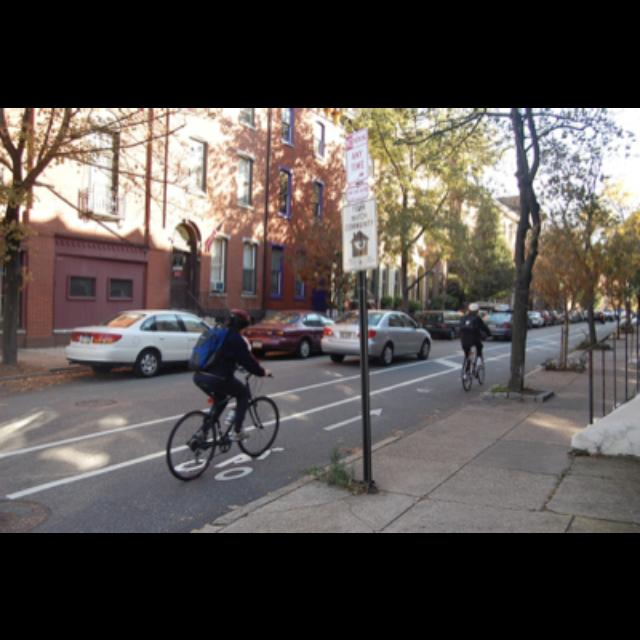With Helmet: (221, 304, 255, 330), (464, 296, 484, 314)
